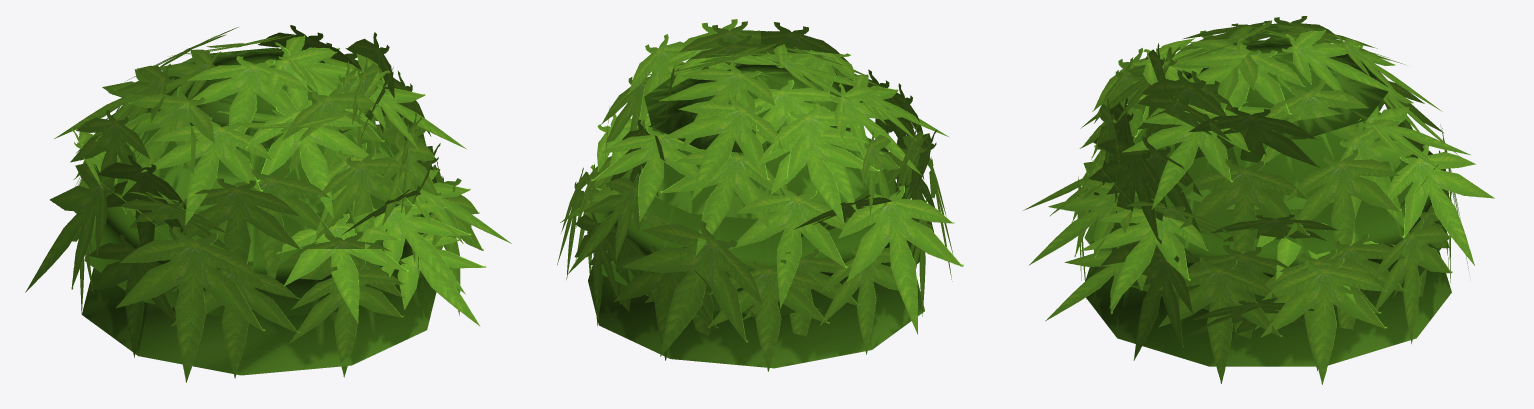
File: Props_Bush_1.1.fbx
3 views of the same model, side by side, from view 1: azimuth 30°, elevation 25°; view 2: azimuth 150°, elevation 25°; view 3: azimuth 270°, elevation 25° (orthographic). The views are drawn at different scales.
Parts seen in each view (by area): view 1: Props_Bush_1.1; view 2: Props_Bush_1.1; view 3: Props_Bush_1.1.
Boxes of the visible parts, left/top/right/bottom form: Props_Bush_1.1: left=25, top=25, right=511, bottom=382; Props_Bush_1.1: left=557, top=19, right=963, bottom=371; Props_Bush_1.1: left=1023, top=16, right=1494, bottom=384.
Size of the model in its own units: 386 by 225 by 391.
